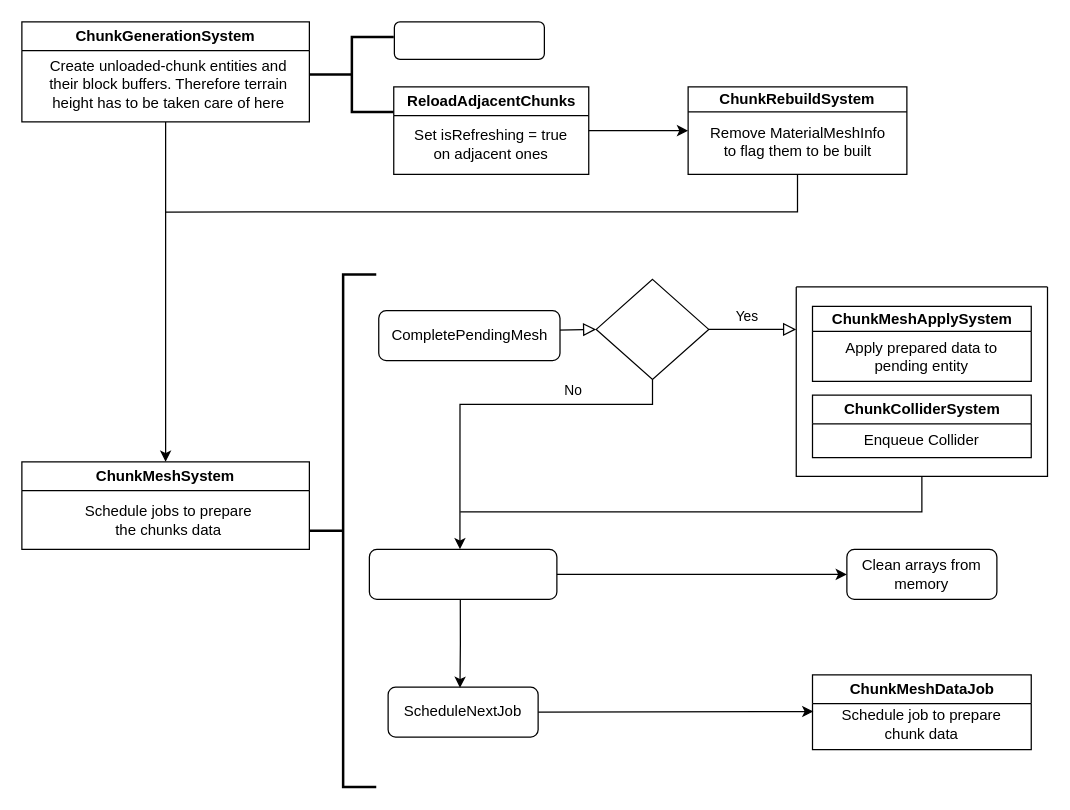
The diagram is 1070 pixels wide and 810 high, and some of its shapes have lost their labels. Each missing label, with the centre of its shape:
_hasPendingJob?: point (652, 328)
ChunkHeightJob: point (468, 40)
DisposeNeighbourArrays: point (462, 573)
